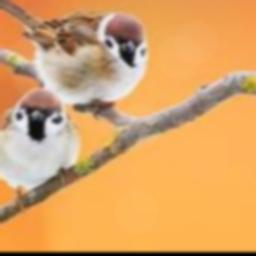Sparrow: (0, 0, 147, 119), (0, 87, 80, 213)
